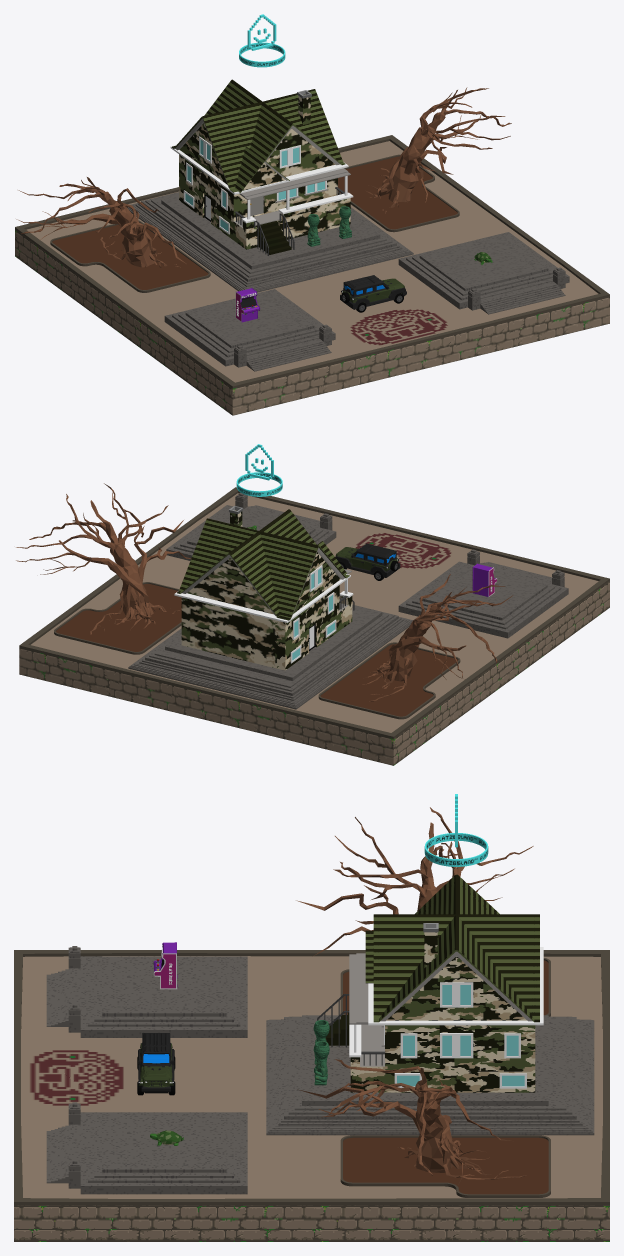
The picture shows the model from 3 angles, top to bottom: view 1: azimuth 30°, elevation 25°; view 2: azimuth 150°, elevation 25°; view 3: azimuth 270°, elevation 25°; orthographic projection. The views are drawn at different scales.
Visible parts, largest first — view 1: Cube.011, Cube.002, VEHICLES_JEEP, TYPE_PREMIUM, OBJRANDOM_ARCADE; view 2: Cube.011, Cube.002, VEHICLES_JEEP, TYPE_PREMIUM, OBJRANDOM_ARCADE; view 3: Cube.011, Cube.002, VEHICLES_JEEP, TYPE_PREMIUM, OBJRANDOM_ARCADE.
Boxes of the visible parts, x1,y1,x2,y2 form: Cube.011: (15, 87, 609, 415); Cube.002: (170, 79, 353, 255); VEHICLES_JEEP: (340, 275, 406, 312); TYPE_PREMIUM: (239, 14, 285, 67); OBJRANDOM_ARCADE: (235, 287, 260, 322); Cube.011: (16, 483, 609, 765); Cube.002: (174, 505, 354, 670); VEHICLES_JEEP: (335, 543, 400, 580); TYPE_PREMIUM: (236, 444, 282, 496); OBJRANDOM_ARCADE: (472, 563, 497, 596); Cube.011: (14, 807, 609, 1241); Cube.002: (317, 874, 543, 1092); VEHICLES_JEEP: (137, 1033, 175, 1095); TYPE_PREMIUM: (424, 794, 488, 866); OBJRANDOM_ARCADE: (153, 942, 177, 989).
Size of the model in its own units: 5099 by 2567 by 4000.
Materials: 43 (8 with a texture image).
